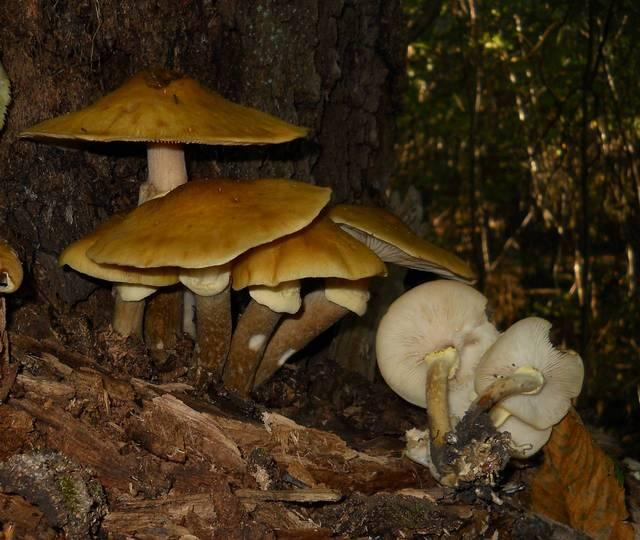Edible Mushroom: (16, 65, 312, 342), (335, 189, 589, 458), (58, 175, 332, 389)
